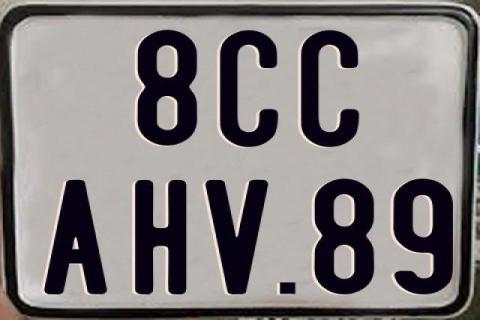0: (392, 177, 458, 296), (314, 176, 380, 294), (137, 29, 202, 148)
A: (43, 180, 111, 298)
C: (218, 29, 279, 151), (298, 30, 356, 148)
H: (132, 178, 187, 296)
V: (202, 178, 269, 294)
